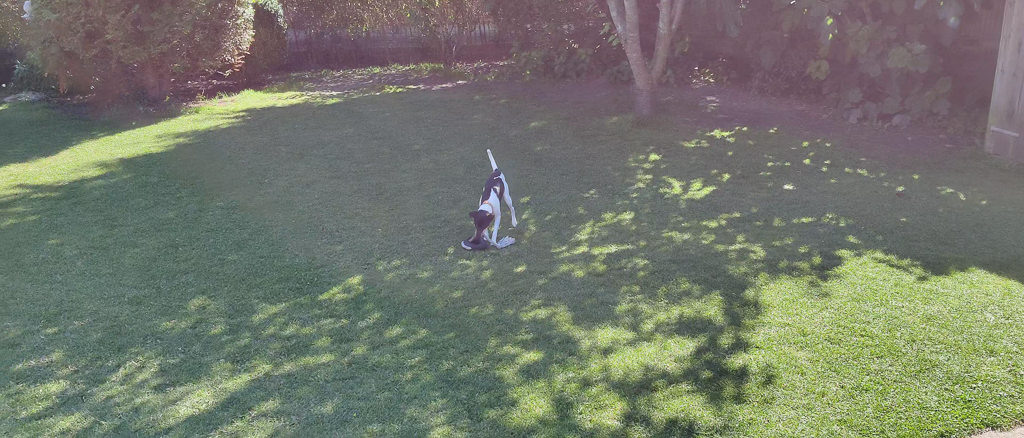Dog: (451, 145, 526, 253)
